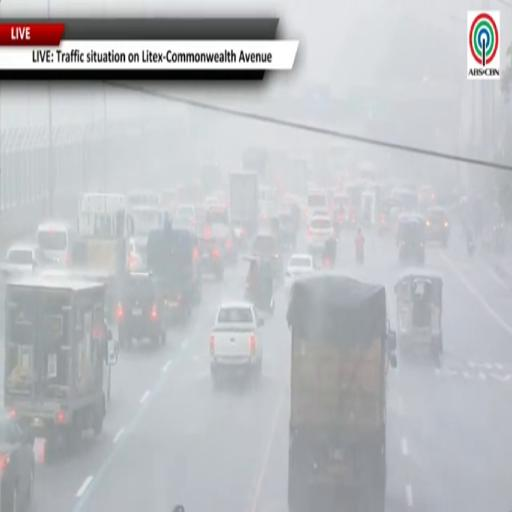car: (210, 301, 263, 381), (117, 272, 167, 347), (0, 410, 34, 511), (37, 222, 76, 265), (0, 244, 49, 278), (252, 231, 284, 281), (206, 222, 238, 264), (199, 227, 224, 280), (306, 215, 334, 253), (285, 254, 314, 290), (426, 206, 450, 247), (175, 204, 206, 232), (204, 197, 229, 223), (307, 189, 328, 217), (129, 238, 146, 270)
motorcycle: (245, 283, 274, 314), (467, 235, 474, 257), (356, 247, 364, 264)
truck: (288, 272, 396, 511), (4, 276, 118, 454), (72, 194, 134, 322), (147, 224, 202, 323), (230, 171, 259, 236), (242, 147, 269, 182)
